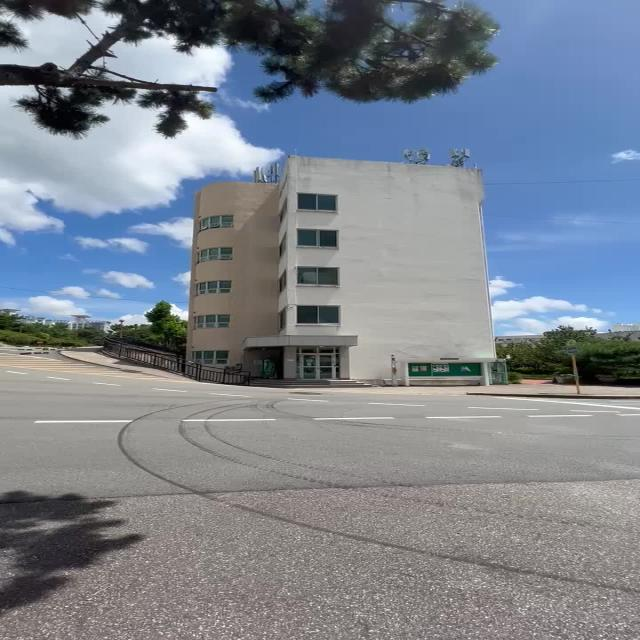building: (181, 146, 507, 393)
